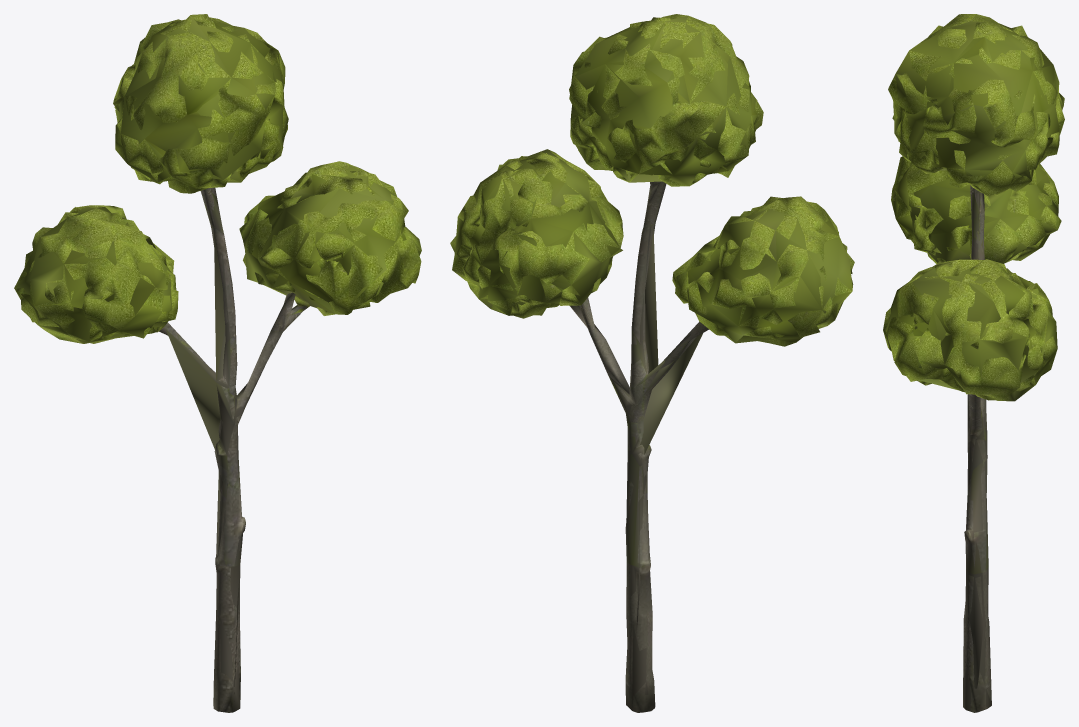
Rendered from fresno_joven.glb.
3 views of the same model, side by side, from view 1: azimuth 30°, elevation 25°; view 2: azimuth 150°, elevation 25°; view 3: azimuth 270°, elevation 25° (orthographic). The views are drawn at different scales.
Visible parts, largest first — view 1: cerca, medio, lejos; view 2: cerca, medio, lejos; view 3: cerca, medio, lejos.
Part boxes in pixels (x1,y1,x2,y2): cerca: (14, 14, 421, 712); medio: (14, 19, 421, 711); lejos: (15, 18, 405, 701); cerca: (450, 14, 854, 712); medio: (455, 17, 852, 712); lejos: (466, 16, 851, 632); cerca: (883, 14, 1064, 712); medio: (887, 21, 1059, 711); lejos: (883, 14, 1059, 698).
Bounding box in the file's own units: 2.31 × 4 × 0.982.
2 materials, 1 textured.
